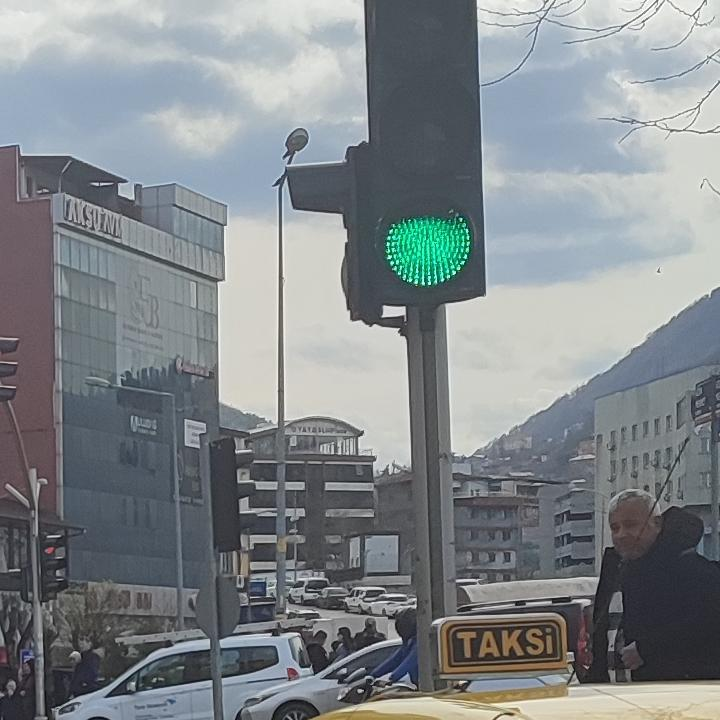green: (358, 0, 498, 306)
